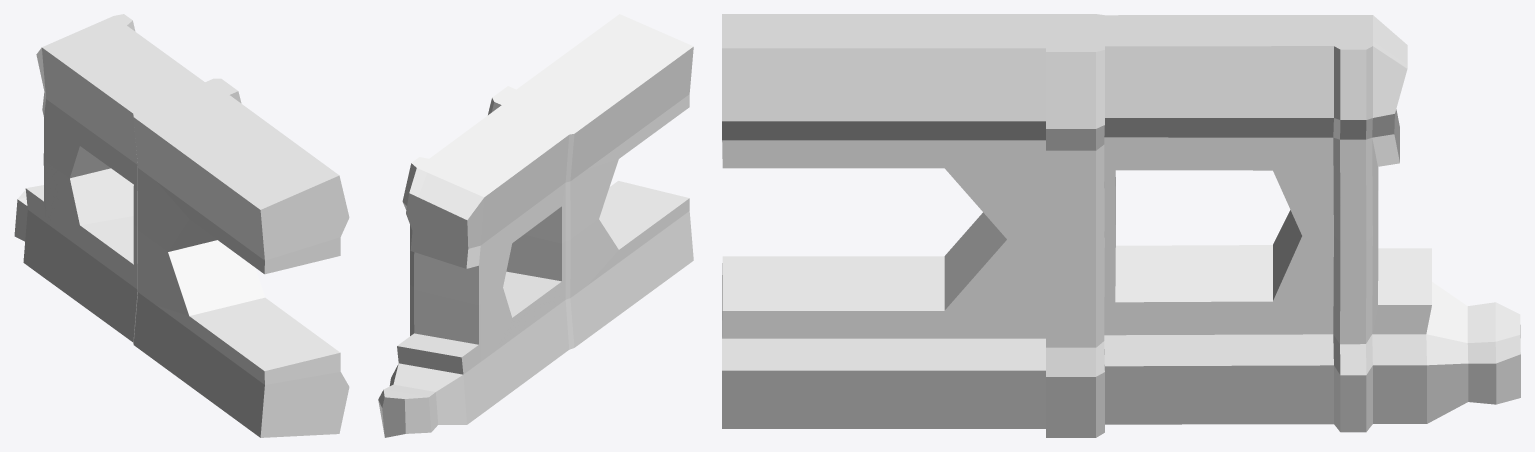
Rendered from venice_col_2.fbx.
3 renders of one model, left to right at view 1: azimuth 30°, elevation 25°; view 2: azimuth 150°, elevation 25°; view 3: azimuth 270°, elevation 25°, orthographic. The views are drawn at different scales.
Parts seen in each view (by area): view 1: Cube.369; view 2: Cube.369; view 3: Cube.369.
Boxes of the visible parts, x1,y1,x2,y2 form: Cube.369: (14, 14, 349, 437); Cube.369: (378, 14, 693, 437); Cube.369: (722, 14, 1520, 437).
Bounding box in the file's own units: 536 × 1359 × 2549.
